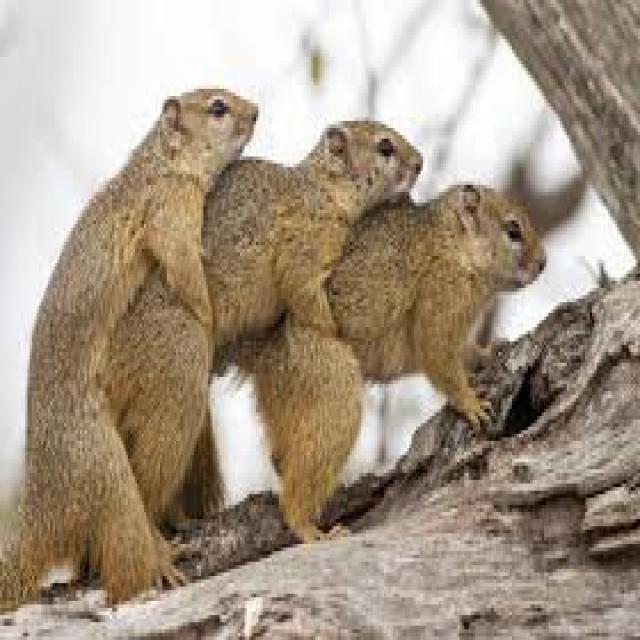squirrel: (2, 89, 258, 608), (103, 121, 423, 519), (240, 185, 546, 537)
